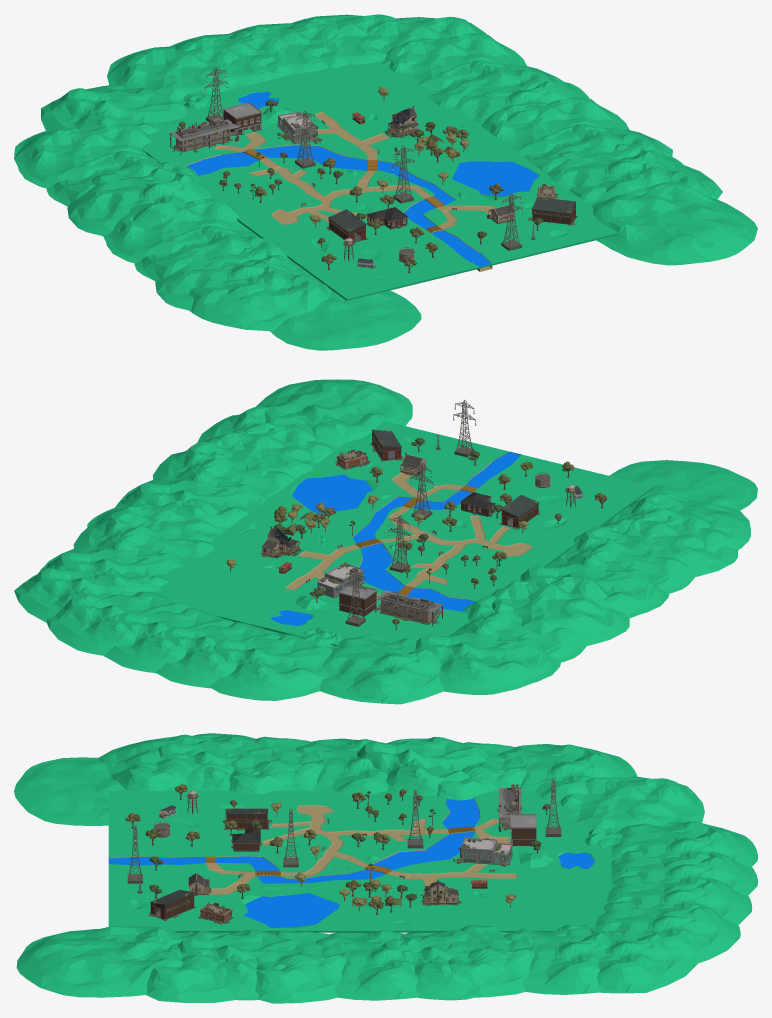
File: Villageriverwithoutgreens.glb
The picture shows the model from 3 angles, top to bottom: view 1: azimuth 30°, elevation 25°; view 2: azimuth 150°, elevation 25°; view 3: azimuth 270°, elevation 25°; orthographic projection. The views are drawn at different scales.
Visible parts, largest first — view 1: Cube__1_, SM_Generic_Ground_03__16_, SM_Generic_Ground_03__11_, SM_Generic_Ground_03__6_, SM_Generic_Ground_03__10_, SM_Generic_Ground_03__4_, SM_Generic_Ground_03__3_, SM_Generic_Ground_03__28_, SM_Generic_Ground_03__7_, SM_Generic_Ground_03__18_, SM_Generic_Ground_03__24_, Cube_Clone__1 (+24 smaller); view 2: Cube__1_, SM_Generic_Ground_03__16_, SM_Generic_Ground_03__3_, SM_Generic_Ground_03__4_, SM_Generic_Ground_03__28_, SM_Generic_Ground_03__6_, SM_Generic_Ground_03__25_, SM_Generic_Ground_03__11_, SM_Generic_Ground_03__8_, SM_Generic_Ground_03__18_, SM_Generic_Ground_03__10_, SM_Generic_Ground_03__26_ (+24 smaller); view 3: Cube__1_, SM_Generic_Ground_03__16_, SM_Generic_Ground_03__3_, SM_Generic_Ground_03__11_, SM_Generic_Ground_03__18_, SM_Generic_Ground_03__25_, SM_Generic_Ground_03__19_, SM_Generic_Ground_03__6_, SM_Generic_Ground_03__24_, SM_Generic_Ground_03__22_, SM_Generic_Ground_03__28_, SM_Generic_Ground_03__4_ (+24 smaller).
Part boxes in pixels (box(x1,y1,x2,y2)): Cube__1_: box(141, 60, 618, 300); SM_Generic_Ground_03__16_: box(591, 182, 757, 265); SM_Generic_Ground_03__11_: box(270, 290, 421, 350); SM_Generic_Ground_03__6_: box(67, 167, 211, 236); SM_Generic_Ground_03__10_: box(189, 259, 332, 331); SM_Generic_Ground_03__4_: box(14, 123, 151, 188); SM_Generic_Ground_03__3_: box(41, 85, 186, 133); SM_Generic_Ground_03__28_: box(107, 45, 238, 101); SM_Generic_Ground_03__7_: box(103, 198, 252, 263); SM_Generic_Ground_03__18_: box(481, 97, 629, 155); SM_Generic_Ground_03__24_: box(384, 33, 526, 90); Cube_Clone__1: box(186, 145, 491, 266); Cube__1_: box(149, 421, 653, 645); SM_Generic_Ground_03__16_: box(256, 379, 412, 447); SM_Generic_Ground_03__3_: box(319, 635, 444, 704); SM_Generic_Ground_03__4_: box(415, 630, 560, 694); SM_Generic_Ground_03__28_: box(210, 632, 332, 700); SM_Generic_Ground_03__6_: box(491, 575, 629, 645); SM_Generic_Ground_03__25_: box(47, 591, 190, 655); SM_Generic_Ground_03__11_: box(609, 460, 757, 510); SM_Generic_Ground_03__8_: box(554, 526, 694, 593); SM_Generic_Ground_03__18_: box(115, 477, 268, 527); SM_Generic_Ground_03__10_: box(604, 492, 750, 551); SM_Generic_Ground_03__26_: box(104, 608, 233, 673); Cube__1_: box(108, 791, 611, 932); SM_Generic_Ground_03__16_: box(16, 926, 190, 997); SM_Generic_Ground_03__3_: box(560, 776, 704, 832); SM_Generic_Ground_03__11_: box(14, 757, 129, 825); SM_Generic_Ground_03__18_: box(316, 930, 423, 1000); SM_Generic_Ground_03__25_: box(595, 901, 740, 963); SM_Generic_Ground_03__19_: box(255, 930, 349, 1003); SM_Generic_Ground_03__6_: box(356, 737, 488, 796); SM_Generic_Ground_03__24_: box(504, 924, 610, 994); SM_Generic_Ground_03__22_: box(566, 924, 697, 993); SM_Generic_Ground_03__28_: box(611, 821, 757, 868); SM_Generic_Ground_03__4_: box(499, 744, 637, 800).
Size of the model in its own units: 396 by 47.19 by 461.
14 materials, 10 textured.
